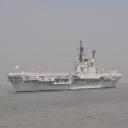Portanaves: (7, 40, 124, 94)
